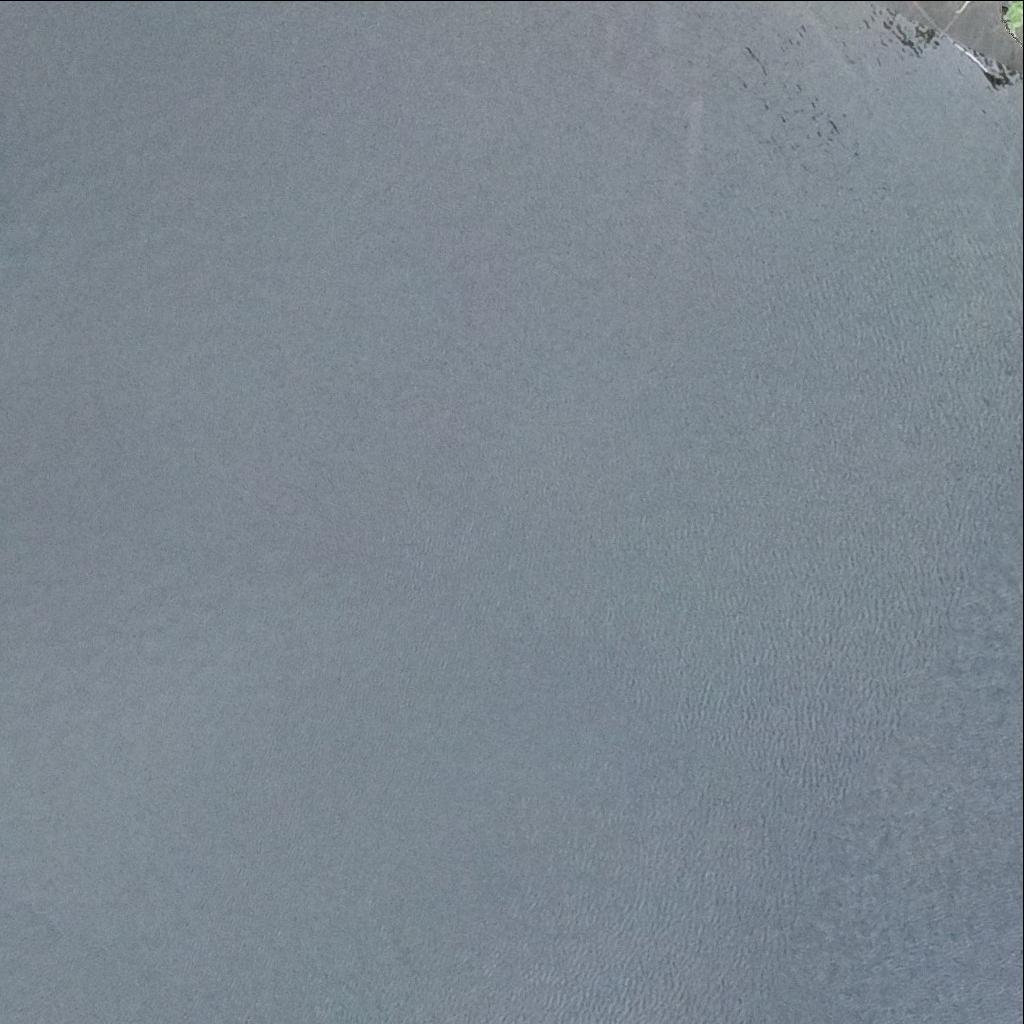crown: (1009, 0, 1023, 14)
